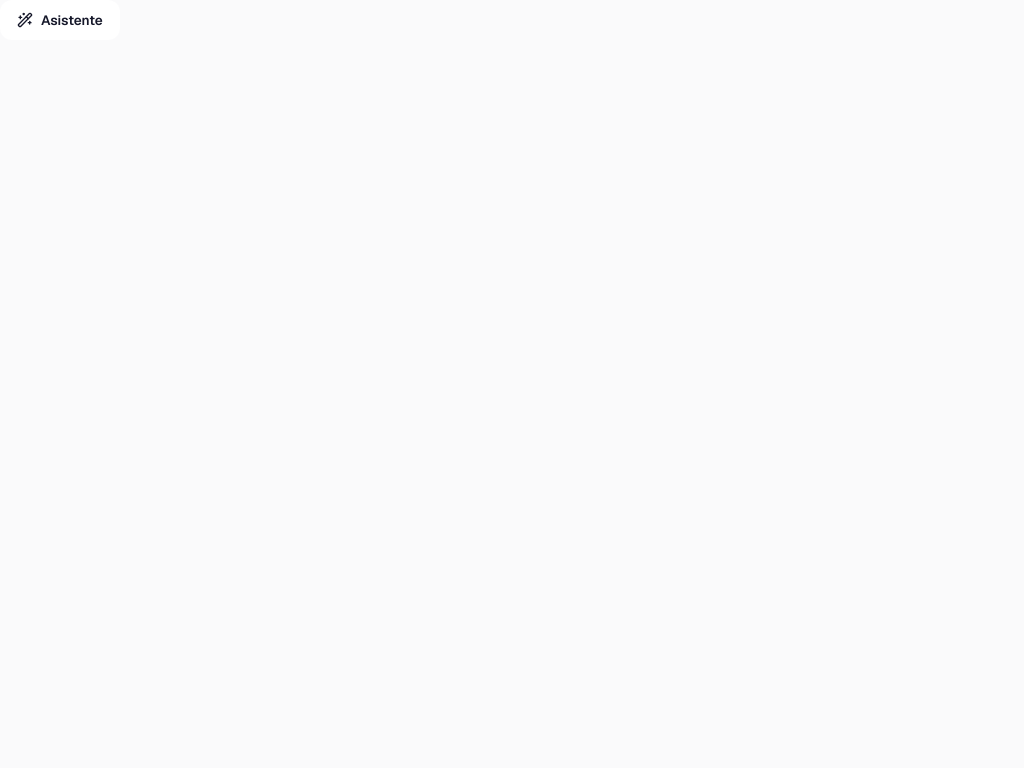
Test: AssistantSidePanel › con el cupo agotado desactiva el pedido
Click the button with test id "assistant-side-open" at [60, 20], box x1=0 y1=0 x2=120 y2=40
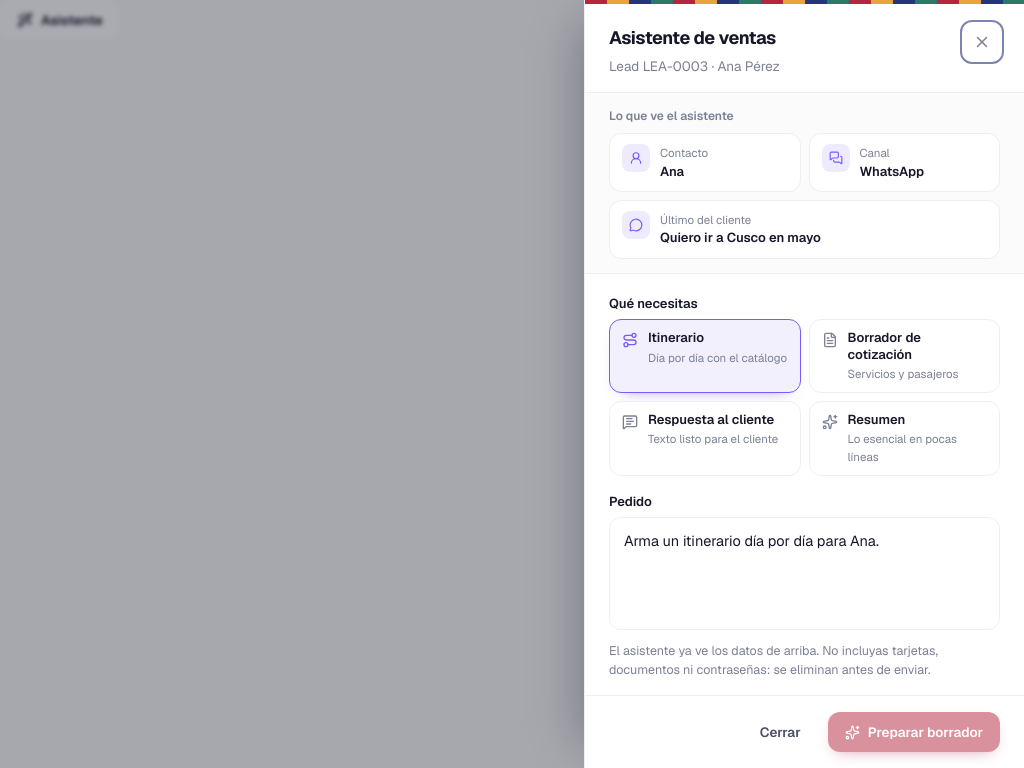
Now the button with test id "assistant-side-ask" is disabled, box x1=828 y1=712 x2=1000 y2=752
